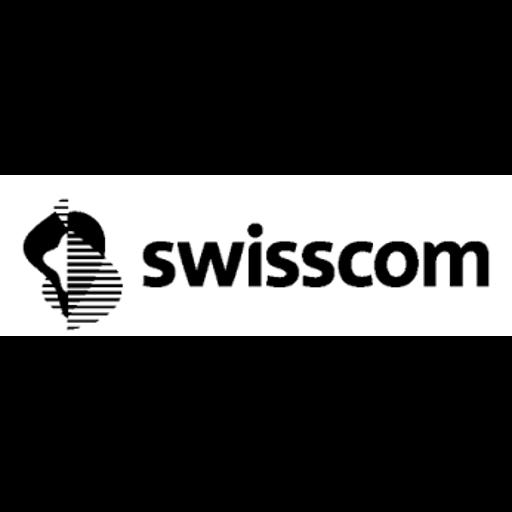Swisscom IT Services AG: (0, 175, 512, 336)
